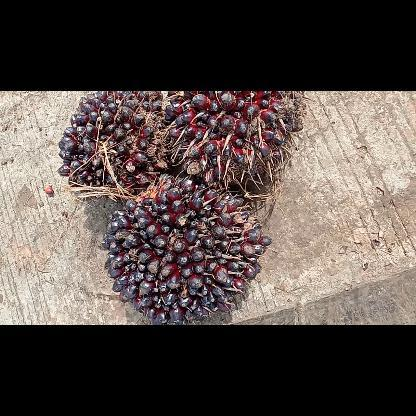TBS mentah: (102, 174, 272, 324), (160, 91, 308, 190), (54, 91, 176, 199)
